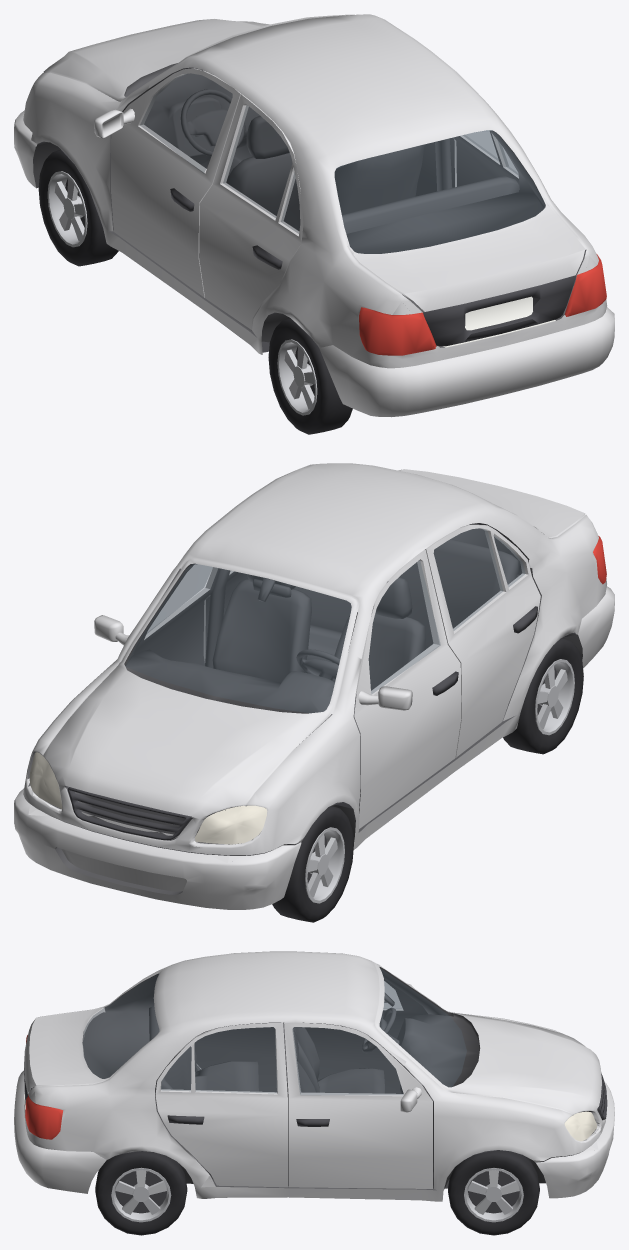
Rendered from sedan.glb.
The picture shows the model from 3 angles, top to bottom: view 1: azimuth 30°, elevation 25°; view 2: azimuth 150°, elevation 25°; view 3: azimuth 270°, elevation 25°; orthographic projection. The views are drawn at different scales.
Parts seen in each view (by area): view 1: body, left_front_door_mesh, left_rear_door_mesh, boot_lid_mesh, wheel_rl_mesh, wheel_fl_mesh, right_rear_door_mesh, right_front_door_mesh; view 2: body, left_front_door_mesh, left_rear_door_mesh, wheel_fl_mesh, wheel_rl_mesh, right_front_door_mesh, boot_lid_mesh, right_rear_door_mesh; view 3: body, right_front_door_mesh, right_rear_door_mesh, wheel_fr_mesh, wheel_rr_mesh, boot_lid_mesh, left_front_door_mesh, left_rear_door_mesh.
Part boxes in pixels (x1,y1,x2,y2): body: (14,14,614,417); left_front_door_mesh: (94,68,241,297); left_rear_door_mesh: (199,94,303,329); boot_lid_mesh: (353,205,585,311); wheel_rl_mesh: (268,318,352,434); wheel_fl_mesh: (38,149,118,266); right_rear_door_mesh: (453,131,519,189); right_front_door_mesh: (415,137,456,196); body: (14,463,614,909); left_front_door_mesh: (354,550,461,828); left_rear_door_mesh: (425,524,540,757); wheel_fl_mesh: (272,806,353,922); wheel_rl_mesh: (503,638,583,754); right_front_door_mesh: (94,564,220,665); boot_lid_mesh: (399,469,584,537); right_rear_door_mesh: (203,571,248,662); body: (14,951,614,1201); right_front_door_mesh: (284,1022,432,1188); right_rear_door_mesh: (155,1022,287,1187); wheel_fr_mesh: (448,1150,539,1235); wheel_rr_mesh: (95,1151,187,1235); boot_lid_mesh: (24,1007,105,1092); left_front_door_mesh: (305,979,427,1093); left_rear_door_mesh: (194,1027,276,1092).
Size of the model in its own units: 2.04 by 1.7 by 4.4.
